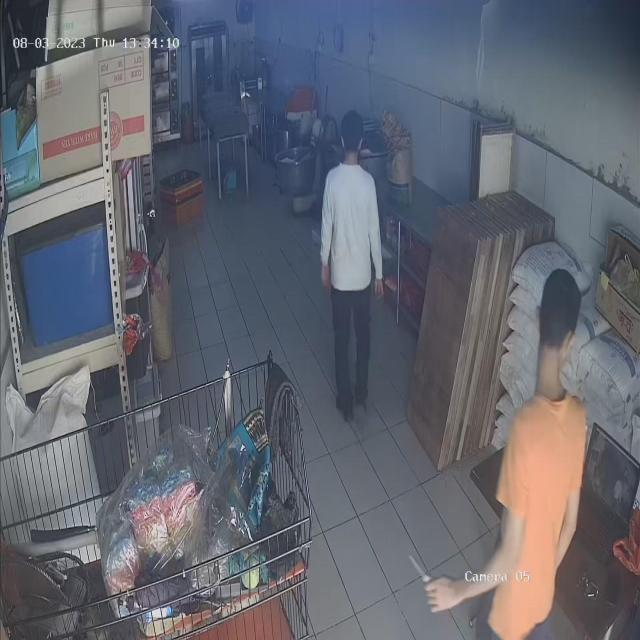Knife: (402, 545, 446, 606)
